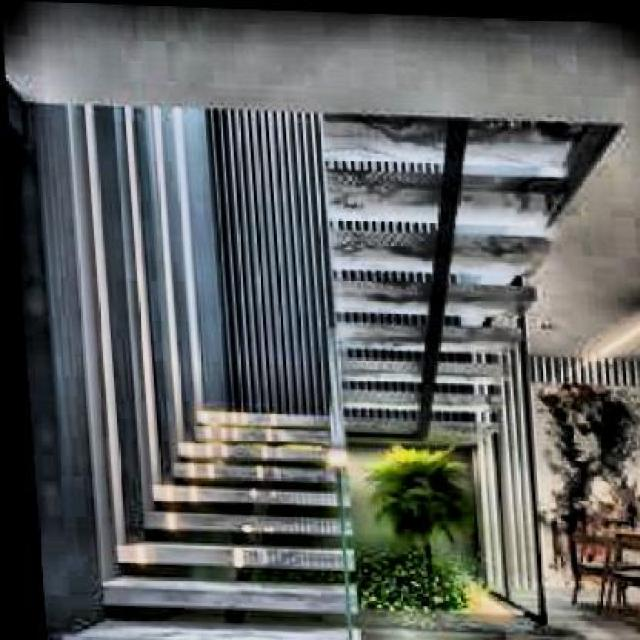stair: (99, 390, 358, 638)
